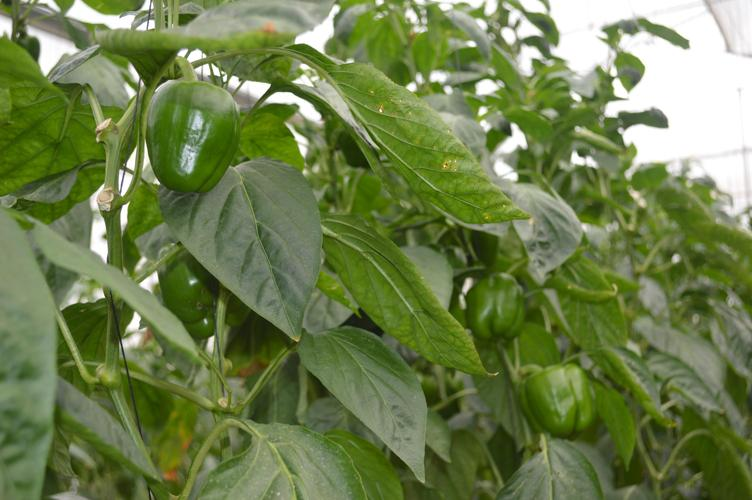BellPepper: (134, 73, 251, 203), (141, 248, 228, 340), (520, 358, 605, 441), (463, 274, 538, 350)
